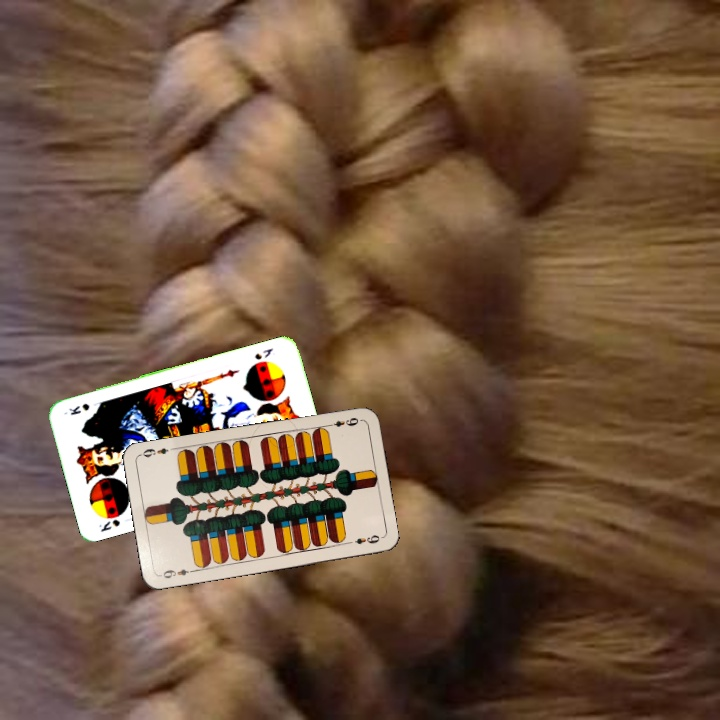E9: (156, 565, 197, 581), (323, 413, 364, 429)
SK: (95, 515, 123, 534), (251, 344, 276, 362)
